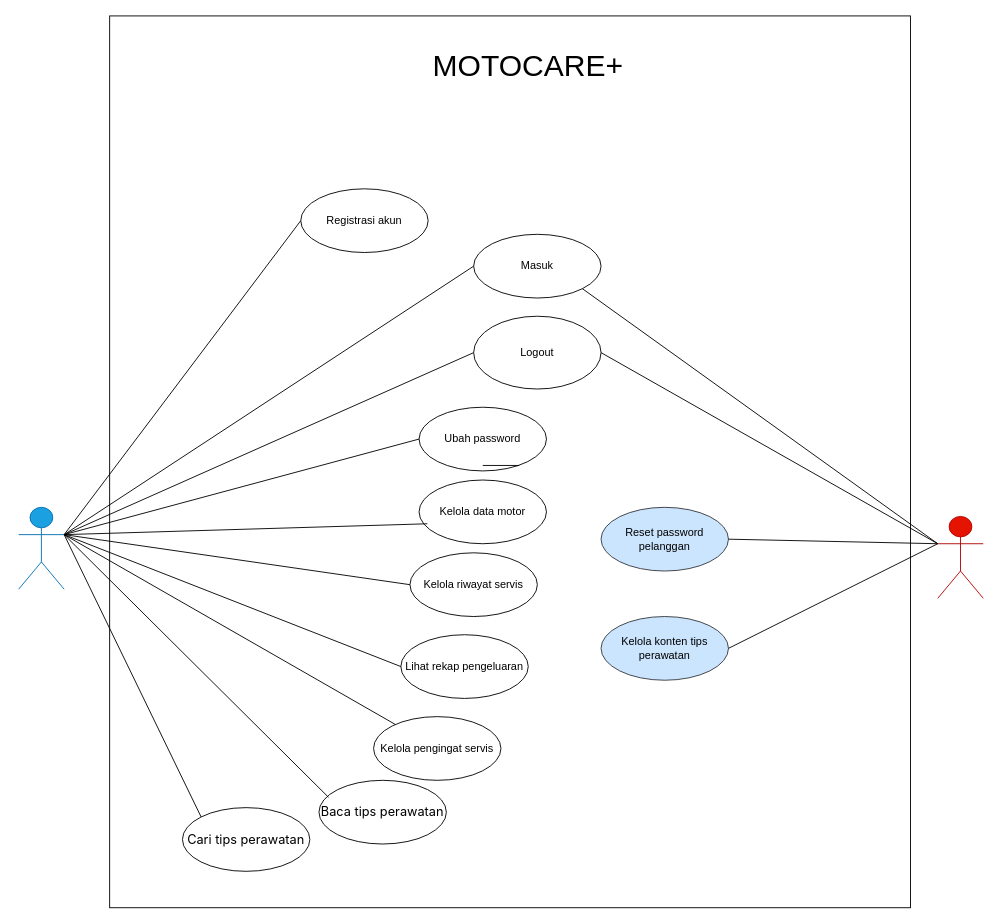
The diagram is 999 pixels wide and 924 high, and some of its shapes have lost their labels. Each missing label, with the centre of its shape:
"Admin" belongs at point 960,557.
"Pelanggan" belongs at point 41,547.
